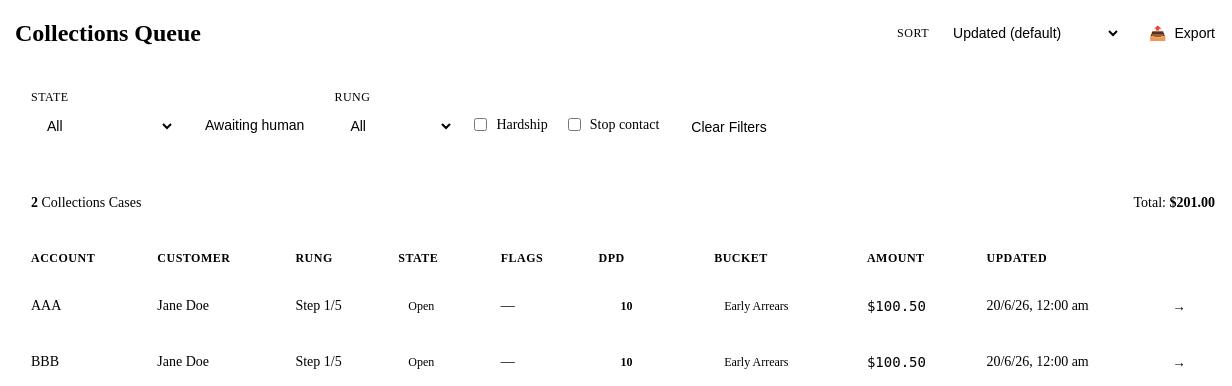
Test: CollectionsView (BTB-196 WS3) › shows the pending note and preserves Updated order when every gate is NOT_APPLICABLE
Select "Expected net recovery" in the dropdown labelled "Sort" at coordinates (1029, 33), box [937,16,1121,50]
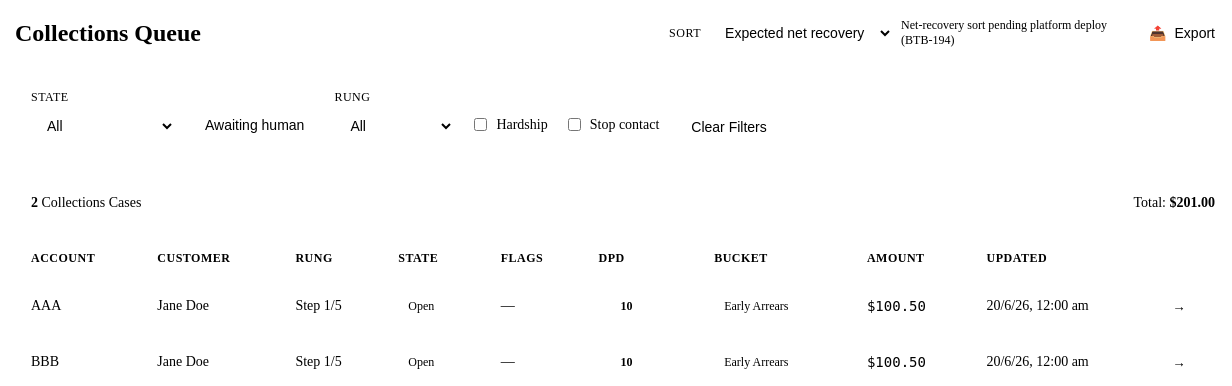
Expected: the text "AAA" is shown, [31,298,61,313]
Expected: the text "Net-recovery sort pending platform deploy (BTB-194)" is shown, [901,18,1121,48]
